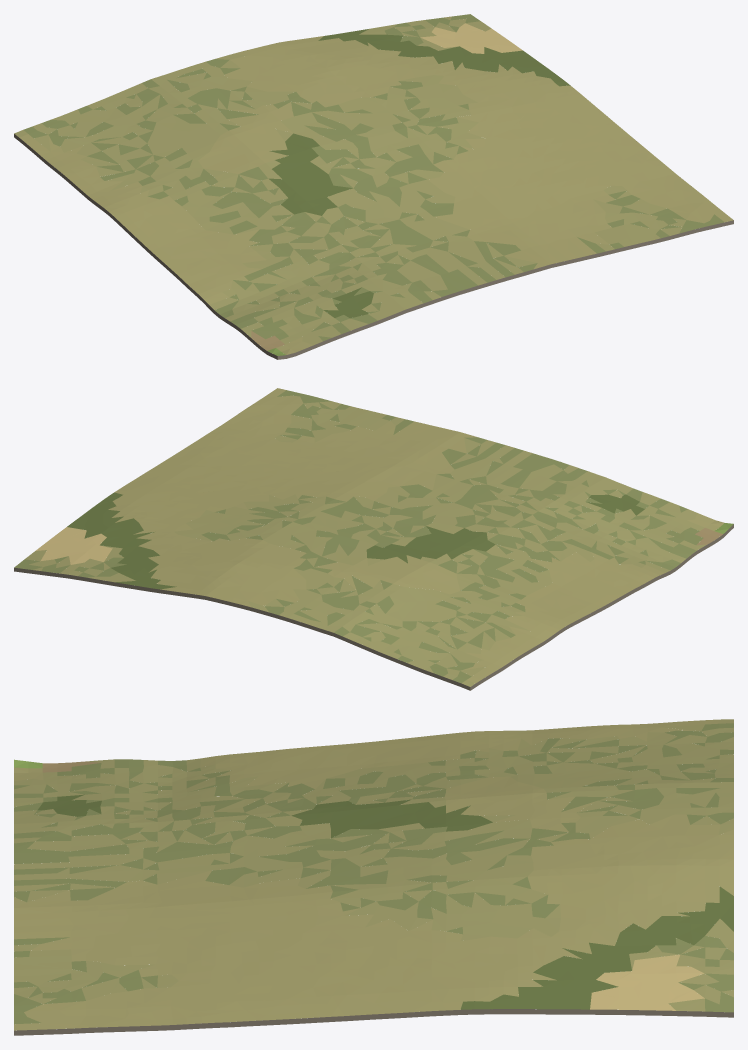
The model's file is parca_+1_+0-uzak.glb.
3 views of the same model, one above another, from view 1: azimuth 30°, elevation 25°; view 2: azimuth 150°, elevation 25°; view 3: azimuth 270°, elevation 25° (orthographic). The views are drawn at different scales.
Parts seen in each view (by area): view 1: parca_+1_+0_arazi_uzak; view 2: parca_+1_+0_arazi_uzak; view 3: parca_+1_+0_arazi_uzak.
Boxes of the visible parts, bbox=[...] form: parca_+1_+0_arazi_uzak: bbox=[14, 14, 733, 359]; parca_+1_+0_arazi_uzak: bbox=[14, 388, 733, 690]; parca_+1_+0_arazi_uzak: bbox=[14, 719, 733, 1035].
Bounding box in the file's own units: 1000 × 132 × 1000.
